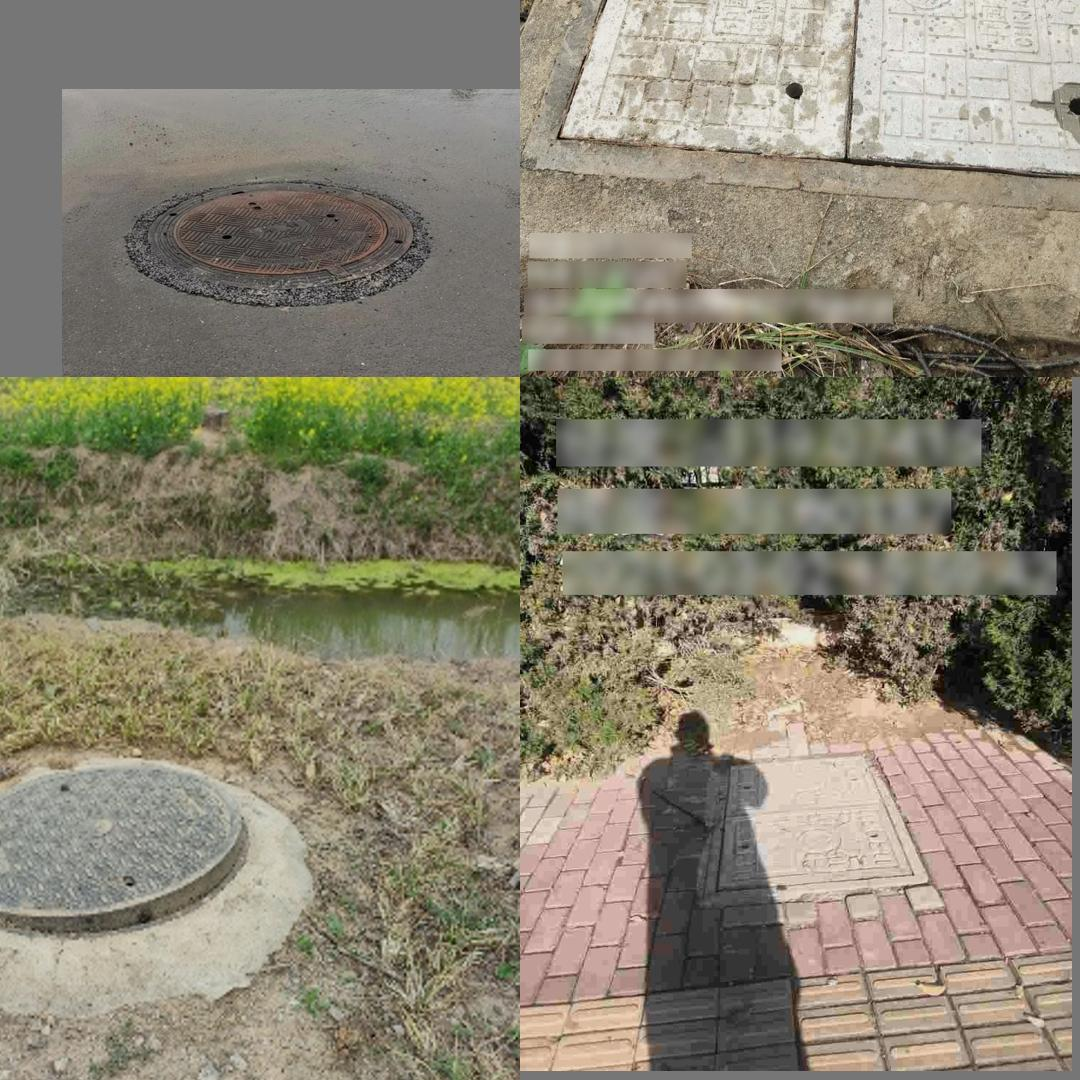good: (521, 0, 1080, 217), (114, 167, 434, 316), (0, 767, 245, 935), (705, 747, 929, 902)
